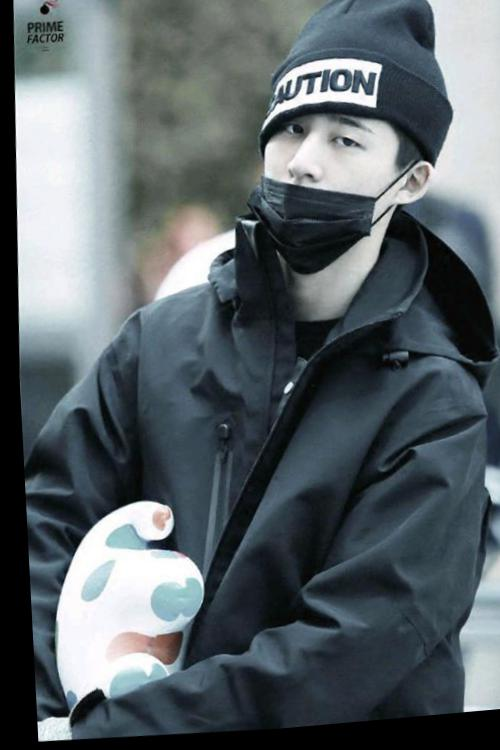WRONG: (251, 95, 406, 255)
